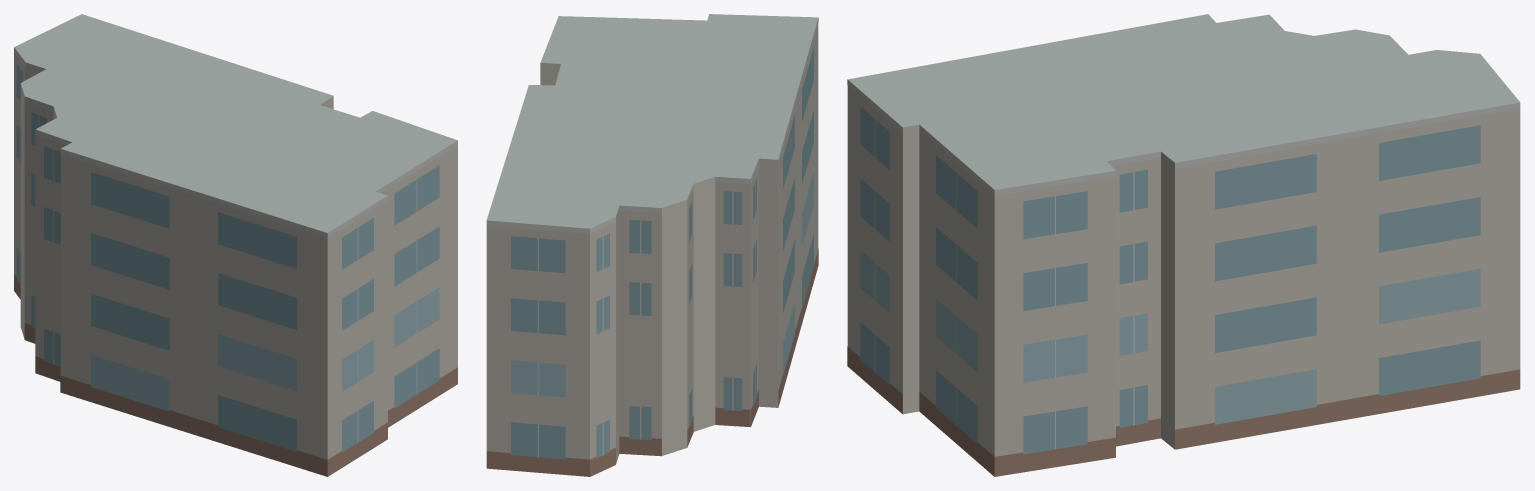
Rendered from survey-upis-32568929.glb.
3 views of the same model, side by side, from view 1: azimuth 30°, elevation 25°; view 2: azimuth 150°, elevation 25°; view 3: azimuth 270°, elevation 25° (orthographic). The views are drawn at different scales.
Parts seen in each view (by area): view 1: survey-upis-32568929.tmp; view 2: survey-upis-32568929.tmp; view 3: survey-upis-32568929.tmp.
Boxes of the visible parts, left/top/right/bottom form: survey-upis-32568929.tmp: left=14, top=14, right=457, bottom=476; survey-upis-32568929.tmp: left=486, top=14, right=818, bottom=476; survey-upis-32568929.tmp: left=847, top=14, right=1520, bottom=476.
Bounding box in the file's own units: 15.54 × 11.8 × 25.09.
